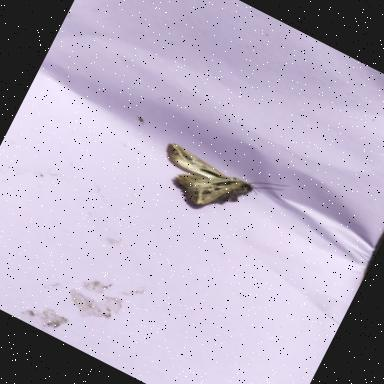abw: (147, 128, 290, 240)
